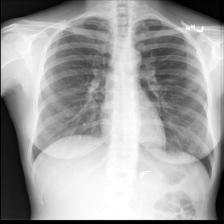normal: (29, 10, 216, 177)
